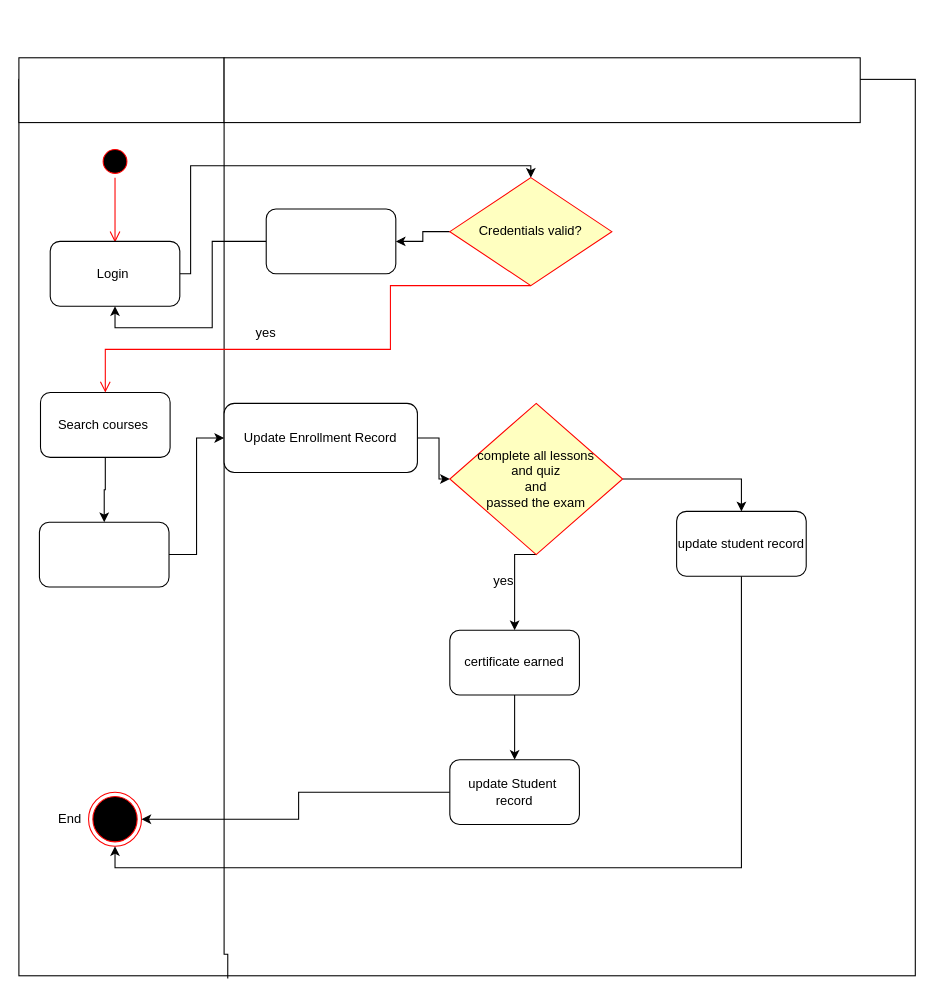
Some shapes in this 934 by 999 pixel diagram are drawn without their labels. The centre of each missing label's shape, as x and y in pixels:
"output invalid" goes at point 330,241.
"Select Course to Enroll" goes at point 103,554.
"Student" goes at point 121,90.
"System" goes at point 541,90.
